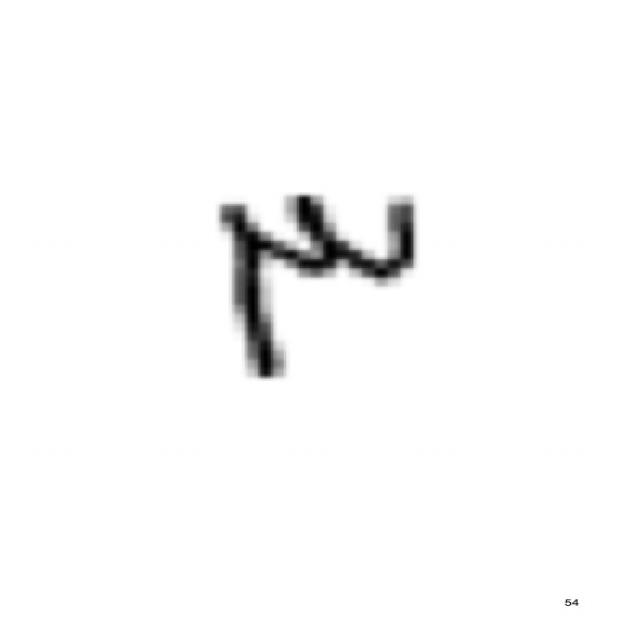3 -three-: (191, 175, 444, 396)
